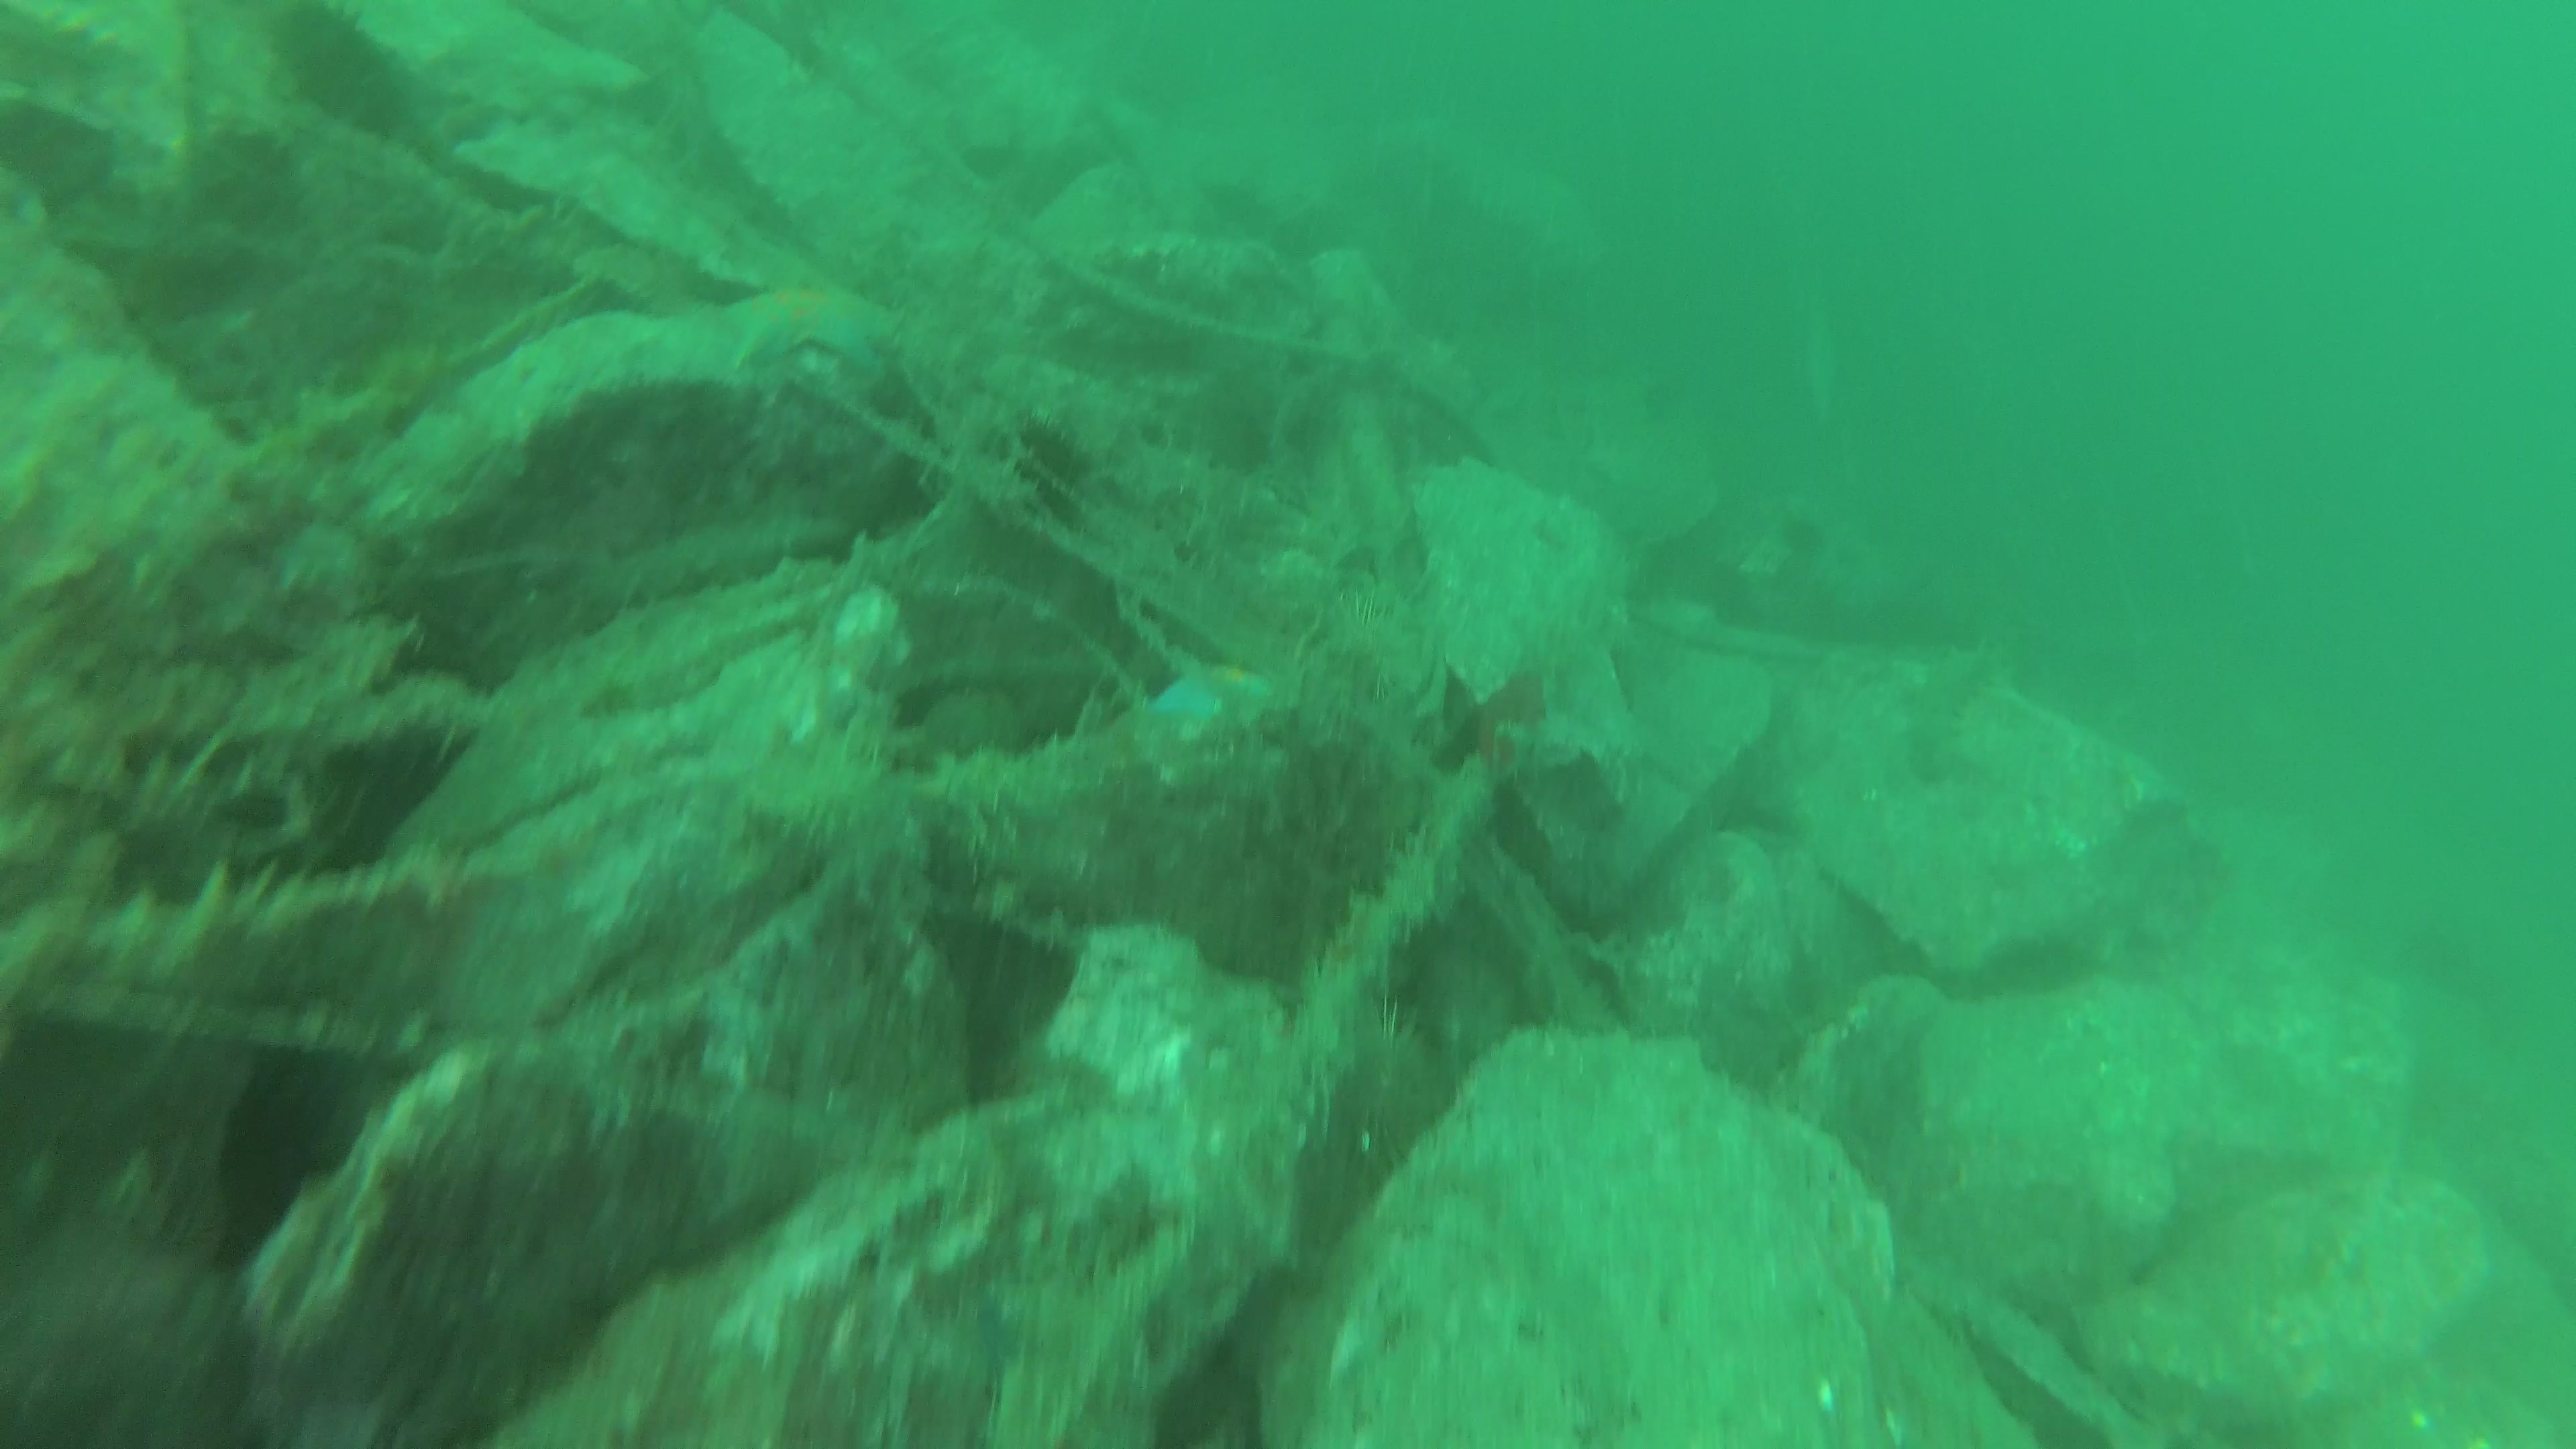echinus: (262, 7, 432, 143), (1320, 561, 1460, 697)
holothurian: (1897, 651, 2001, 778)
starfish: (702, 272, 908, 380), (1145, 653, 1286, 736)
